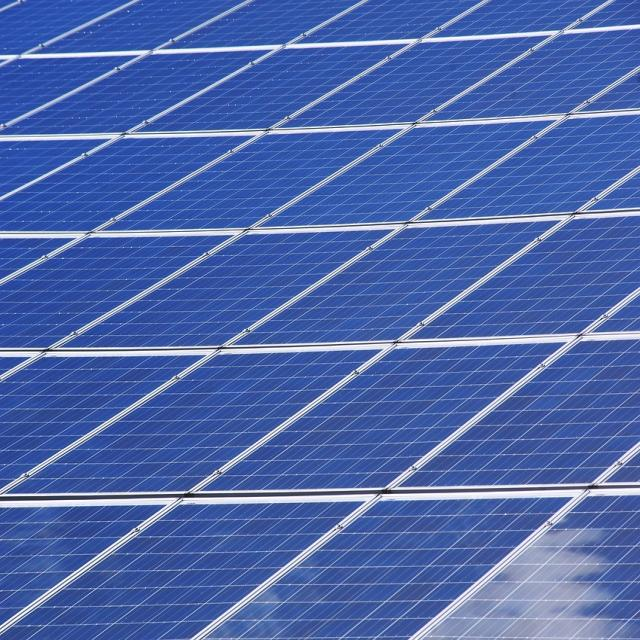clean-solar-panel: (1, 0, 640, 638)
